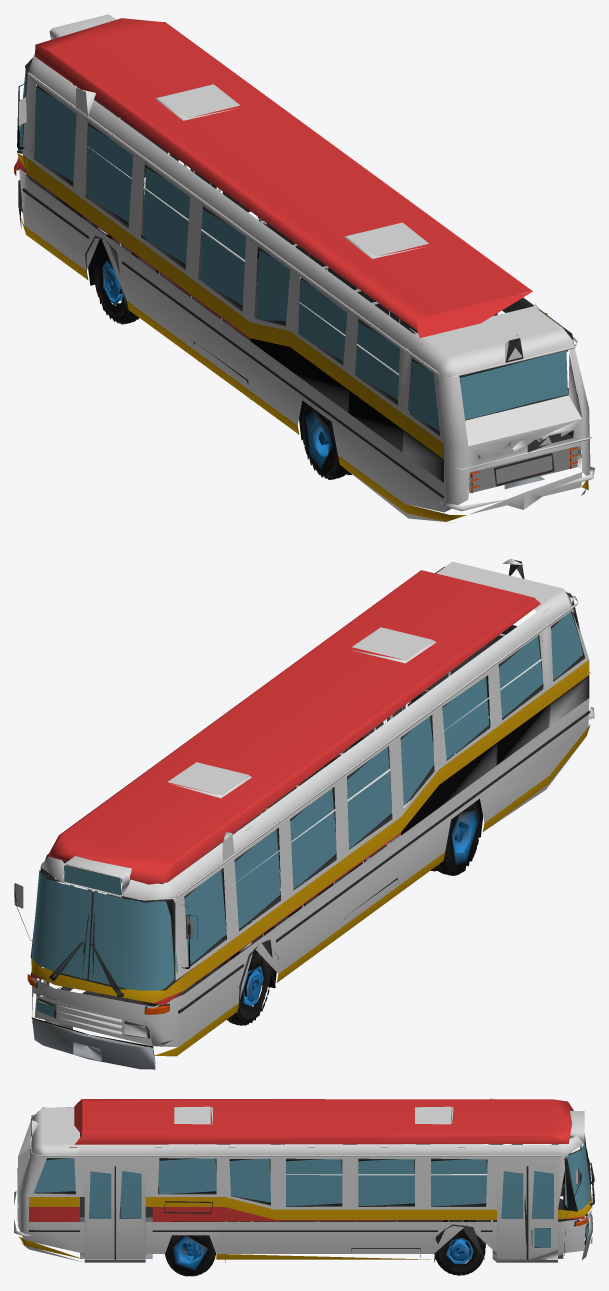
The model's file is bus.glb.
The picture shows the model from 3 angles, top to bottom: view 1: azimuth 30°, elevation 25°; view 2: azimuth 150°, elevation 25°; view 3: azimuth 270°, elevation 25°; orthographic projection. The views are drawn at different scales.
Visible parts, largest first — view 1: det; view 2: det; view 3: det.
Part boxes in pixels (x1,y1,x2,y2): det: (14,14,594,523); det: (14,558,594,1069); det: (14,1098,594,1276).
Size of the model in its own units: 2.6 by 3.2 by 12.
